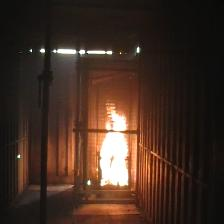fire: (100, 103, 129, 186)
